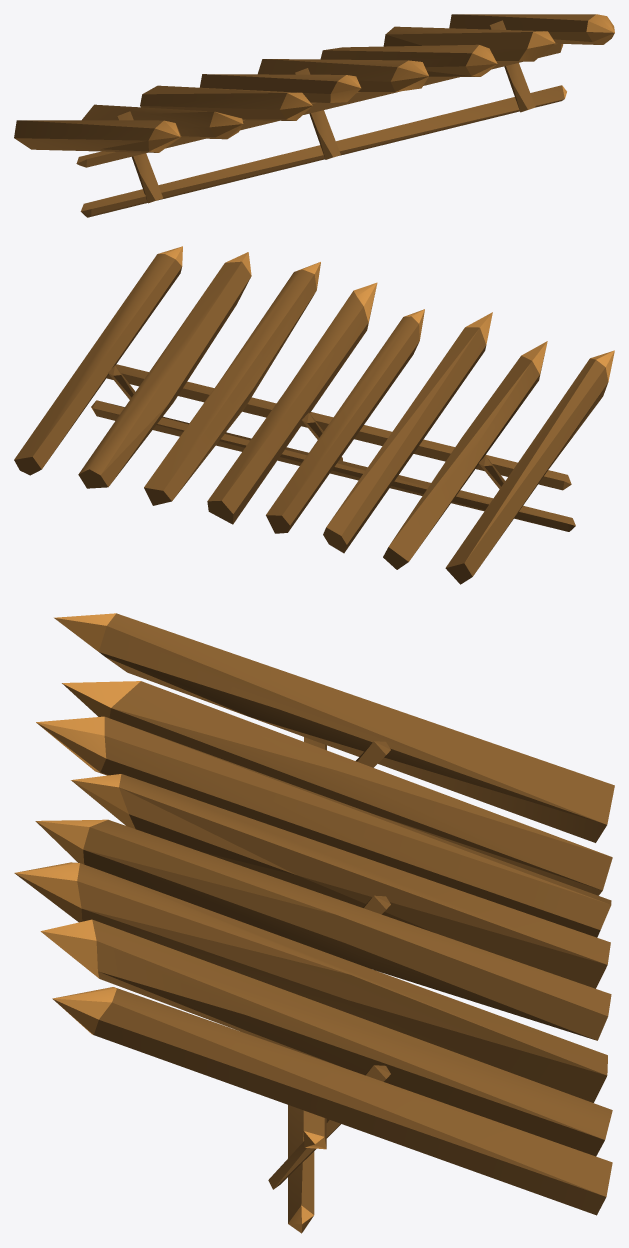
File: viking s.fbx
The picture shows the model from 3 angles, top to bottom: view 1: azimuth 30°, elevation 25°; view 2: azimuth 150°, elevation 25°; view 3: azimuth 270°, elevation 25°; orthographic projection. The views are drawn at different scales.
Parts seen in each view (by area): view 1: Cylinder.002; view 2: Cylinder.002; view 3: Cylinder.002.
Boxes of the visible parts, left/top/right/bottom form: Cylinder.002: left=14, top=14, right=614, bottom=217; Cylinder.002: left=14, top=246, right=614, bottom=584; Cylinder.002: left=14, top=613, right=614, bottom=1233.
Bounding box in the file's own units: 207 × 56.04 × 124.
